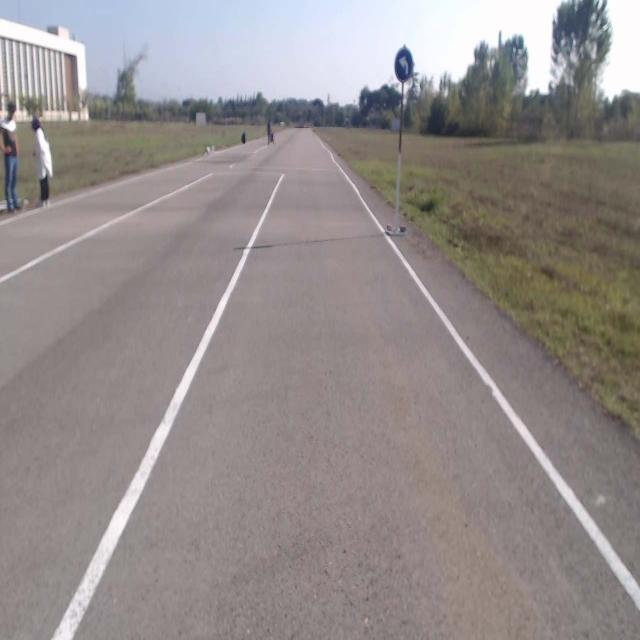sol: (394, 43, 414, 86)
